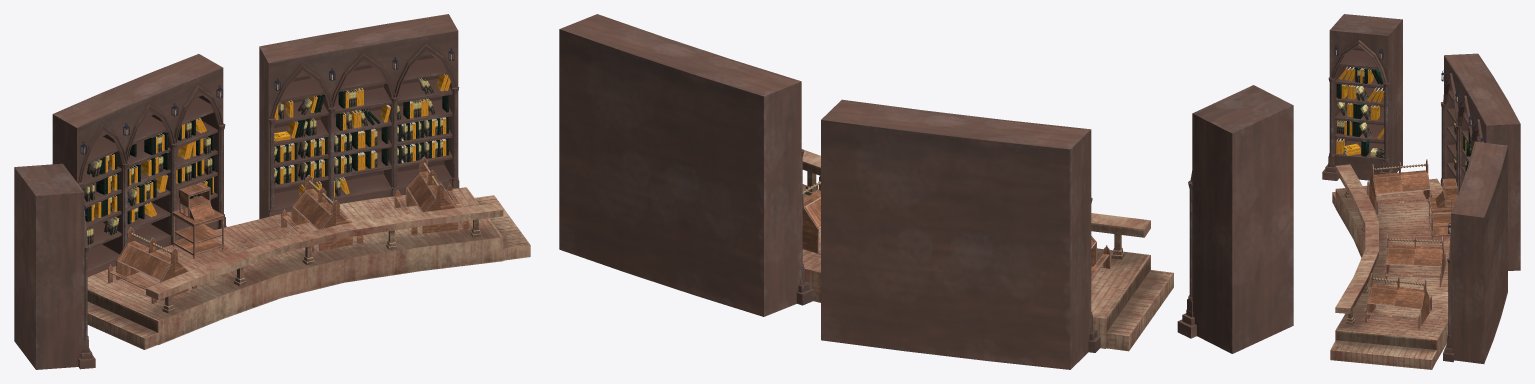
File: dec.glb
The picture shows the model from 3 angles, left to right: view 1: azimuth 30°, elevation 25°; view 2: azimuth 150°, elevation 25°; view 3: azimuth 270°, elevation 25°; orthographic projection. The views are drawn at different scales.
Parts seen in each view (by area): view 1: stage.001, shell.018, shell.001, shell.001_shell_0.001, shell.016, shell.016_shell_0.001, desk_desk1_0.001, desk_desk1_0, desk_desk1_0.002, shell.014, shell.013, Cube.015 (+14 smaller); view 2: shell.001_shell_0.001, shell.001, shell.018, stage.001, desk_desk1_0, shell.016, shell.016_shell_0.001, shell.025; view 3: stage.001, shell.001, shell.001_shell_0.001, shell.018, shell.025, desk_desk1_0.002, desk_desk1_0.001, desk_desk1_0, shell.016_shell_0.001, Cube.015, shell.023, Cube.016 (+15 smaller).
Part boxes in pixels (bbox=[...]): stage.001: bbox=[87, 187, 530, 349]; shell.018: bbox=[14, 164, 84, 369]; shell.001: bbox=[259, 14, 457, 218]; shell.001_shell_0.001: bbox=[52, 54, 221, 276]; shell.016: bbox=[268, 30, 458, 210]; shell.016_shell_0.001: bbox=[75, 67, 223, 251]; desk_desk1_0.001: bbox=[107, 227, 197, 304]; desk_desk1_0: bbox=[281, 174, 363, 252]; desk_desk1_0.002: bbox=[394, 157, 469, 235]; shell.014: bbox=[279, 57, 447, 102]; shell.013: bbox=[274, 78, 452, 124]; Cube.015: bbox=[172, 207, 223, 258]; shell.001_shell_0.001: bbox=[821, 101, 1091, 369]; shell.001: bbox=[559, 15, 801, 316]; shell.018: bbox=[1193, 86, 1293, 353]; stage.001: bbox=[802, 150, 1173, 351]; desk_desk1_0: bbox=[802, 175, 820, 254]; shell.016: bbox=[595, 14, 801, 269]; shell.016_shell_0.001: bbox=[841, 99, 1091, 317]; shell.025: bbox=[1192, 85, 1255, 301]; stage.001: bbox=[1330, 164, 1451, 369]; shell.001: bbox=[1451, 141, 1507, 363]; shell.001_shell_0.001: bbox=[1446, 53, 1520, 270]; shell.018: bbox=[1330, 14, 1402, 180]; shell.025: bbox=[1329, 29, 1389, 158]; desk_desk1_0.002: bbox=[1364, 273, 1431, 329]; desk_desk1_0.001: bbox=[1367, 159, 1431, 214]; desk_desk1_0: bbox=[1384, 234, 1445, 287]; shell.016_shell_0.001: bbox=[1444, 55, 1488, 191]; Cube.015: bbox=[1428, 197, 1455, 239]; shell.023: bbox=[1338, 50, 1378, 69]; Cube.016: bbox=[1435, 178, 1457, 207].
Size of the model in its own units: 0.5722 by 0.1867 by 0.2289.
10 materials, 9 textured.
